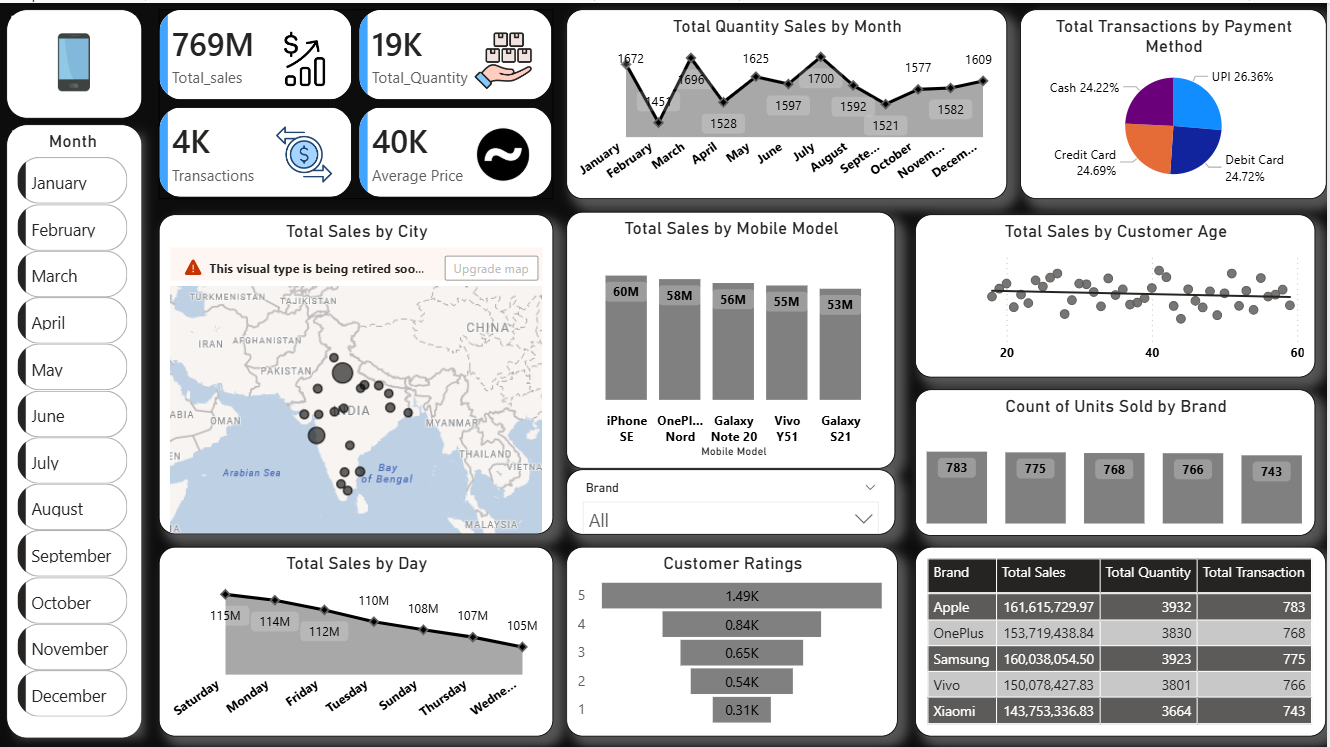

The page's visual inventory and layout, read from the dashboard file:
{"tool":"powerbi","page":{"name":"Page 1","canvas":[1280,720],"ordinal":0},"visuals":[{"type":"group","id":"g1","title":"Group 1","box":[5.8,5.8,131.3,105.3],"z":0},{"type":"shape","box":[5.8,5.8,131.3,105.3],"z":0,"group":"g1"},{"type":"shape","box":[5.8,116.9,131.3,593],"z":0,"group":"g2"},{"type":"image","box":[10.9,11.3,121,90.3],"z":1000,"group":"g1"},{"type":"group","id":"g2","title":"Group 1","box":[5.8,116.9,131.3,593],"z":1000},{"type":"advancedSlicerVisual","fields":{"Values":["Sales Data.Date.Variation.Date Hierarchy.Month"]},"box":[11.5,122.6,116.9,575.7],"z":2000},{"type":"group","id":"g3","title":"Group 2","box":[152.9,5.8,380.9,183.2],"z":3000},{"type":"cardVisual","title":"Total Sales","fields":{"Data":["Sales Data.Total_sales","Sales Data.Total_Quantity","Sales Data.Total_transactions","Sales Data.Average Price"]},"box":[152.9,5.8,380.9,183.2],"z":3000,"group":"g3"},{"type":"image","box":[254.6,27.4,78.5,56.3],"z":4000,"group":"g3"},{"type":"map","title":"Total Sales by City","fields":{"Category":["Sales Data.City"],"Size":["Sales Data.Total_sales"]},"box":[152.9,203.4,380.9,308.8],"z":4000},{"type":"lineChart","title":"Total Quantity Sales by Month","fields":{"Y":["Sales Data.Total_Quantity"],"Category":["Sales Data.Date.Variation.Date Hierarchy.Month","Sales Data.Date.Variation.Date Hierarchy.Day"]},"box":[546.8,5.8,425.6,183.2],"z":5000},{"type":"image","box":[446.3,27.4,78.5,56.3],"z":5000,"group":"g3"},{"type":"image","box":[254.6,118.3,78.5,56.3],"z":6000,"group":"g3"},{"type":"clusteredColumnChart","title":"Total Sales by Mobile Model","fields":{"Category":["Sales Data.Mobile Model"],"Y":["Sales Data.Total_sales"]},"box":[546.8,202,317.4,248.2],"z":6000},{"type":"pieChart","title":"Total Transactions by Payment Method","fields":{"Category":["Sales Data.Payment Method"],"Y":["Sales Data.Total_transactions"]},"box":[984,5.8,295.8,183.2],"z":7000},{"type":"image","box":[446.3,118.3,78.5,56.3],"z":7000,"group":"g3"},{"type":"funnel","title":"Customer Ratings","fields":{"Category":["Sales Data.Customer Ratings"],"Y":["CountNonNull(Sales Data.Customer Ratings)"]},"box":[546.8,525.2,320.3,183.2],"z":8000},{"type":"areaChart","title":"Total Sales by Day","fields":{"Category":["Sales Data.Day Name"],"Y":["Sales Data.Total_sales"]},"box":[152.9,525.2,380.9,183.2],"z":9000},{"type":"tableEx","fields":{"Values":["Sales Data.Brand","Sales Data.Total_sales","Sales Data.Total_Quantity","Sales Data.Total_transactions"]},"box":[883,525.2,396.8,183.2],"z":10000},{"type":"scatterChart","title":"Total Sales by Customer Age","fields":{"X":["Sales Data.Customer Age"],"Y":["Sales Data.Total_sales"]},"box":[883,203.4,386.7,157.3],"z":11000},{"type":"columnChart","fields":{"Category":["Sales Data.Brand"],"Y":["CountNonNull(Sales Data.Units Sold)"]},"box":[883,372.2,386.7,141.4],"z":12000},{"type":"slicer","fields":{"Values":["Sales Data.Brand"]},"box":[546.8,450.1,317.4,63.5],"z":13000}]}

Visuals, with their boxes in screenshot pixels (x1, y1, x2, y2), scaled from the page's 1280x720 canvas onto the 1330x747 screenshot:
"Group 1" group: (left=6, top=6, right=142, bottom=115)
shape: (left=6, top=6, right=142, bottom=115)
shape: (left=6, top=121, right=142, bottom=737)
image: (left=11, top=12, right=137, bottom=105)
"Group 1" group: (left=6, top=121, right=142, bottom=737)
advancedSlicerVisual - Sales Data.Date.Variation.Date Hierarchy.Month: (left=12, top=127, right=133, bottom=724)
"Group 2" group: (left=159, top=6, right=555, bottom=196)
"Total Sales" cardVisual: (left=159, top=6, right=555, bottom=196)
image: (left=265, top=28, right=346, bottom=87)
"Total Sales by City" map: (left=159, top=211, right=555, bottom=531)
"Total Quantity Sales by Month" lineChart: (left=568, top=6, right=1010, bottom=196)
image: (left=464, top=28, right=545, bottom=87)
image: (left=265, top=123, right=346, bottom=181)
"Total Sales by Mobile Model" clusteredColumnChart: (left=568, top=210, right=898, bottom=467)
"Total Transactions by Payment Method" pieChart: (left=1022, top=6, right=1329, bottom=196)
image: (left=464, top=123, right=545, bottom=181)
"Customer Ratings" funnel: (left=568, top=545, right=901, bottom=735)
"Total Sales by Day" areaChart: (left=159, top=545, right=555, bottom=735)
tableEx - Sales Data.Brand x Sales Data.Total_sales: (left=917, top=545, right=1329, bottom=735)
"Total Sales by Customer Age" scatterChart: (left=917, top=211, right=1319, bottom=374)
columnChart - Sales Data.Brand x CountNonNull(Sales Data.Units Sold): (left=917, top=386, right=1319, bottom=533)
slicer - Sales Data.Brand: (left=568, top=467, right=898, bottom=533)
